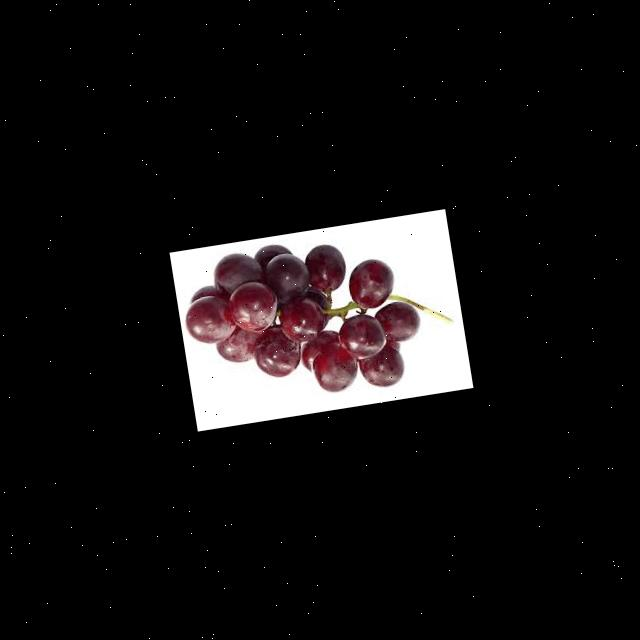grape: (174, 227, 427, 416)
